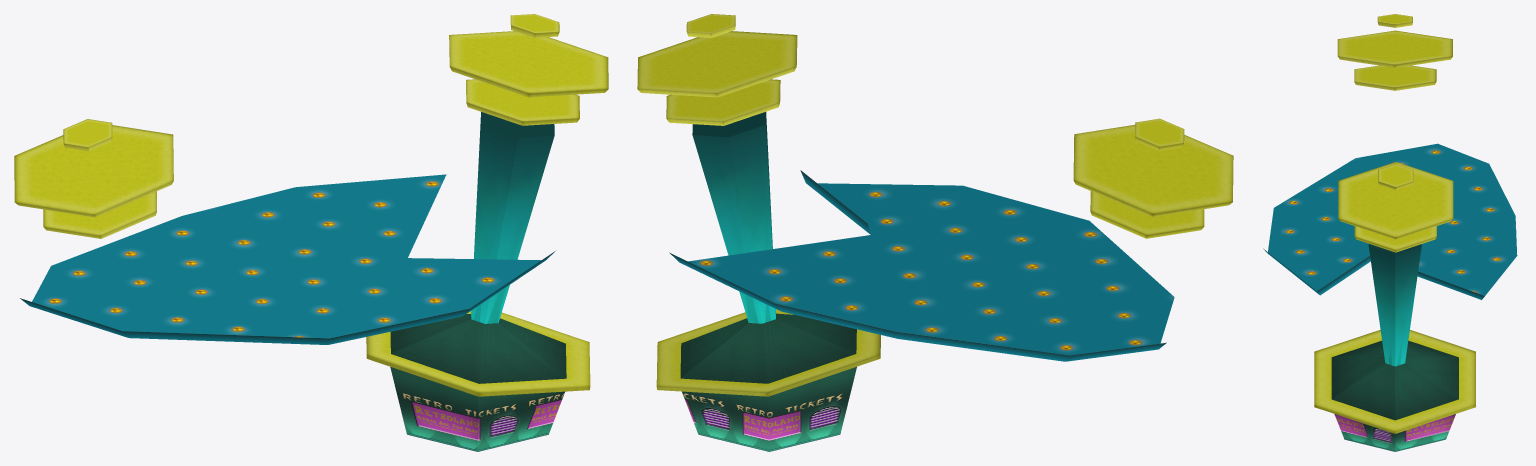
3 views of the same model, side by side, from view 1: azimuth 30°, elevation 25°; view 2: azimuth 150°, elevation 25°; view 3: azimuth 270°, elevation 25° (orthographic). The views are drawn at different scales.
Visible parts, largest first — view 1: Cylinder01; view 2: Cylinder01; view 3: Cylinder01.
Part boxes in pixels (bbox=[...]): Cylinder01: bbox=[14, 14, 608, 451]; Cylinder01: bbox=[637, 14, 1233, 451]; Cylinder01: bbox=[1263, 14, 1517, 451].
Bounding box in the file's own units: 6251 × 3860 × 3304.
4 materials, 4 textured.
